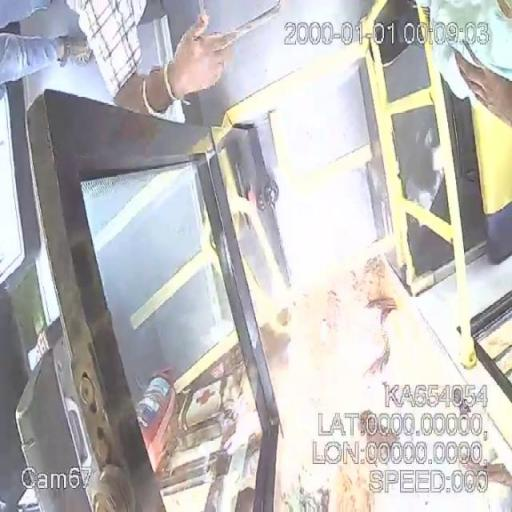persona: (62, 0, 244, 124), (418, 0, 512, 128), (1, 30, 90, 87)
